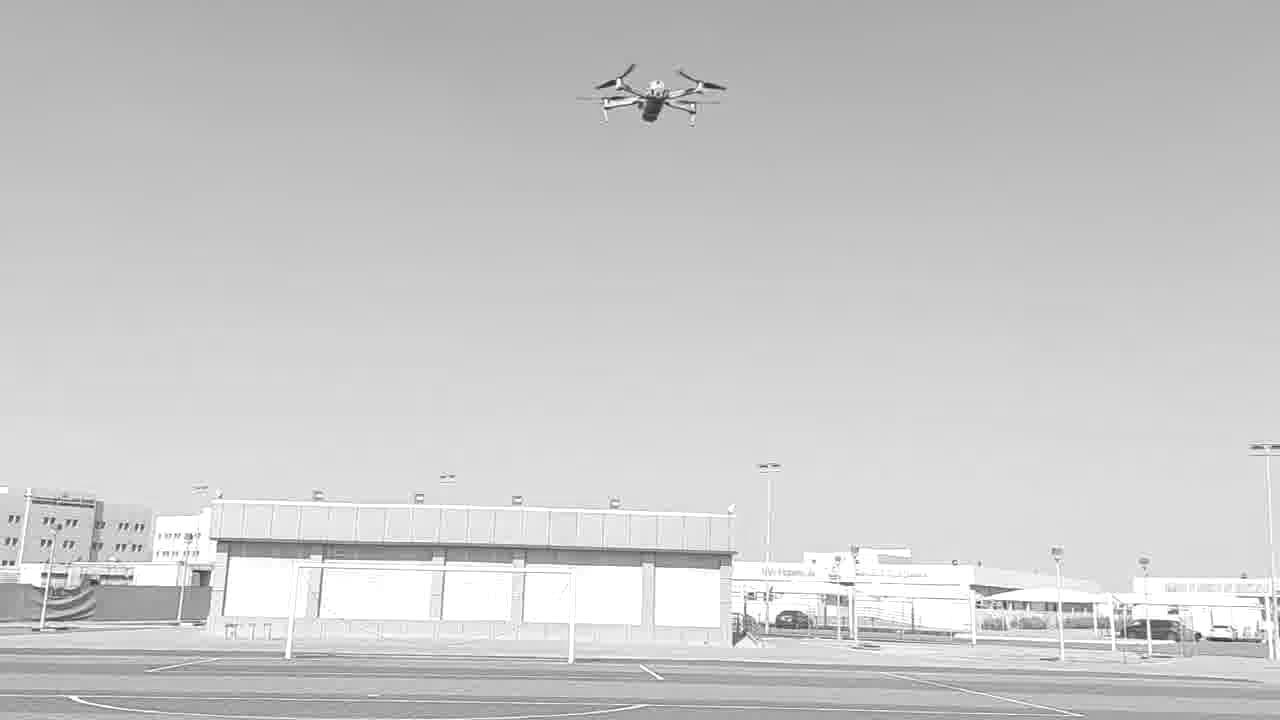drone: (570, 62, 729, 129)
